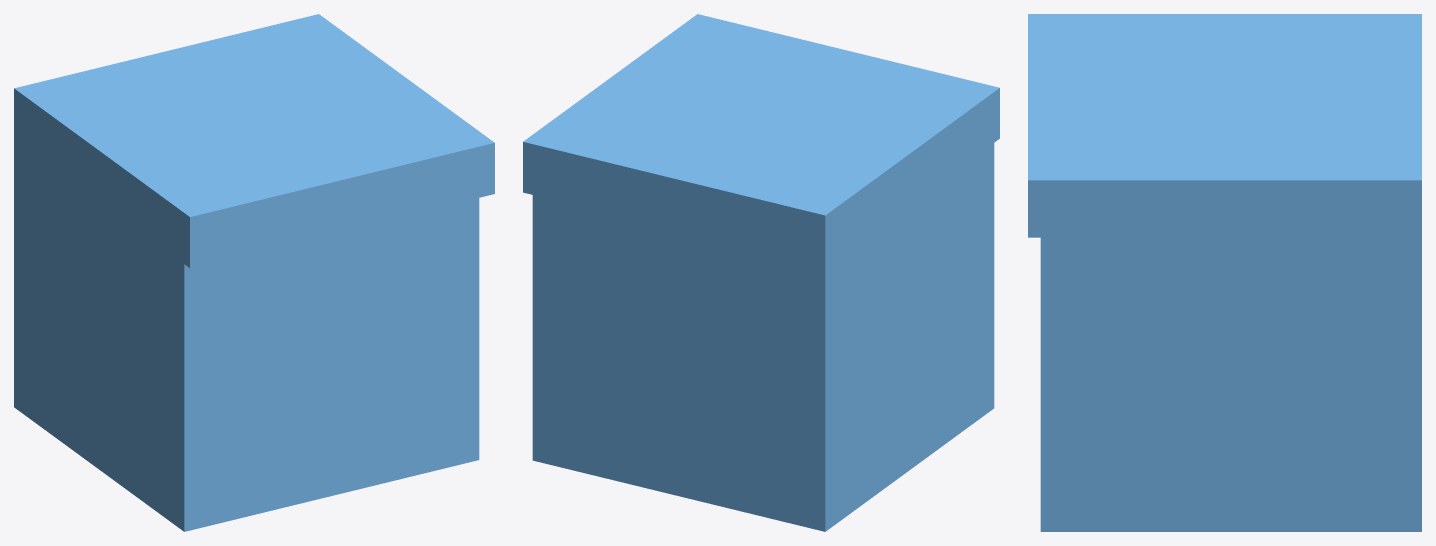
Rendered from grass_corner.fbx.
3 renders of one model, left to right at view 1: azimuth 30°, elevation 25°; view 2: azimuth 150°, elevation 25°; view 3: azimuth 270°, elevation 25°, orthographic. The views are drawn at different scales.
Visible parts, largest first — view 1: grass_corner; view 2: grass_corner; view 3: grass_corner.
Boxes of the visible parts, x1,y1,x2,y2 form: grass_corner: (14,14,494,531); grass_corner: (523,14,999,531); grass_corner: (1028,14,1421,531).
Bounding box in the file's own units: 800 × 800 × 800.
